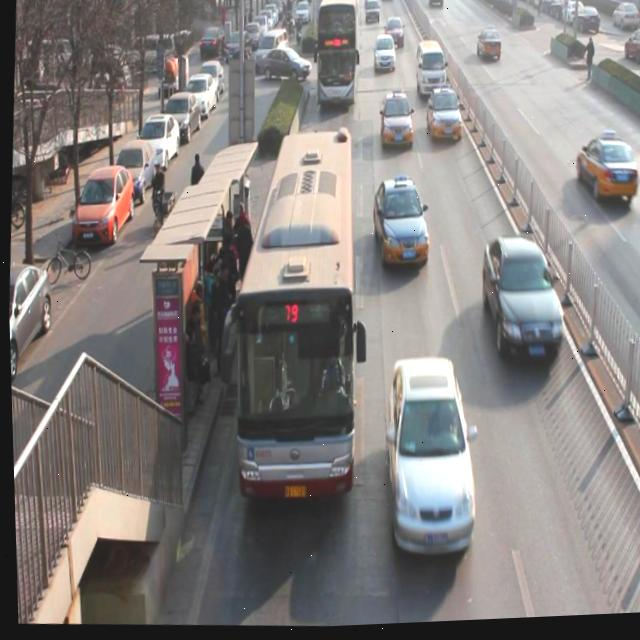car: (378, 359, 482, 566), (476, 240, 568, 374), (369, 184, 433, 278), (572, 130, 640, 216), (422, 91, 465, 147), (378, 99, 415, 151), (372, 40, 398, 77), (476, 32, 502, 66), (383, 21, 406, 51), (364, 4, 381, 26)
truck: (412, 44, 447, 108)
van: (219, 127, 366, 507), (313, 0, 362, 107)
